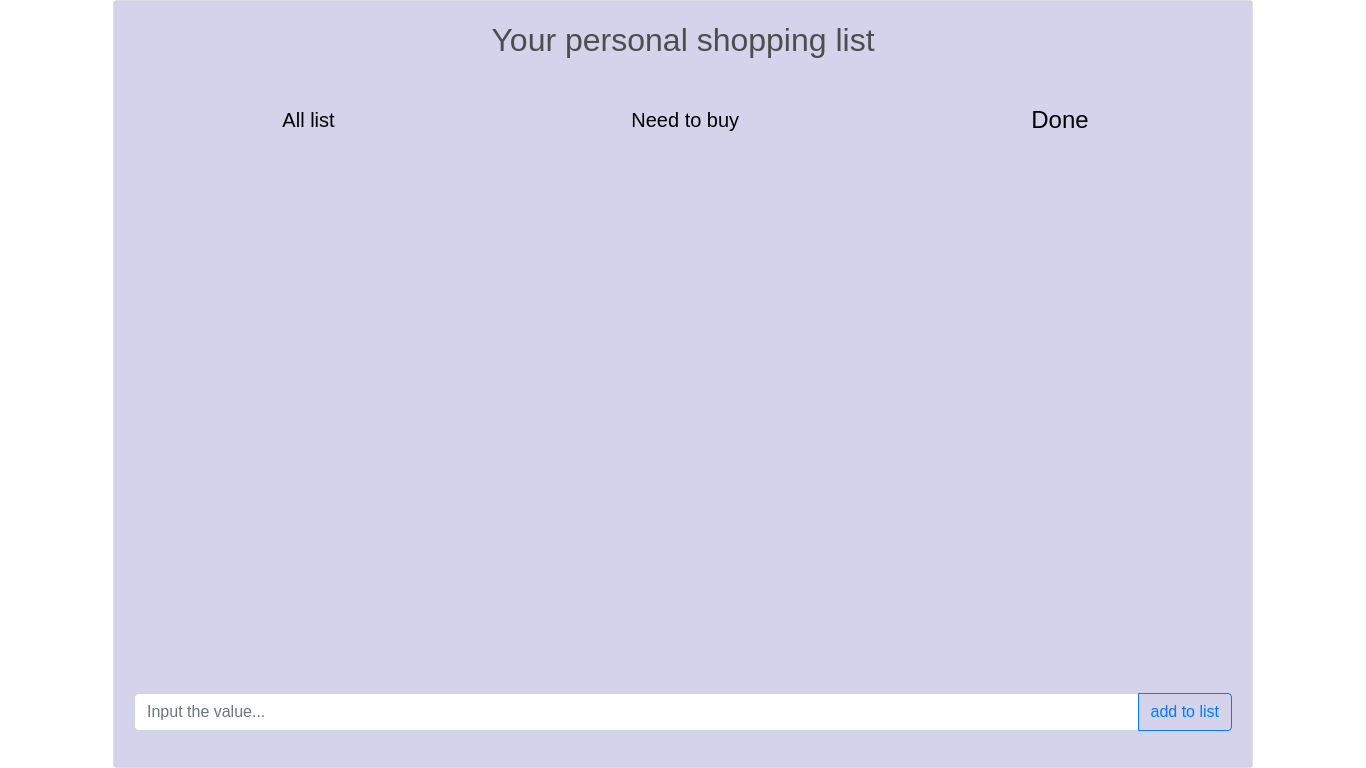
Test: add second Task
The image size is (1366, 768).
Click the button "All list" at (308,124), box [276,107,340,141]
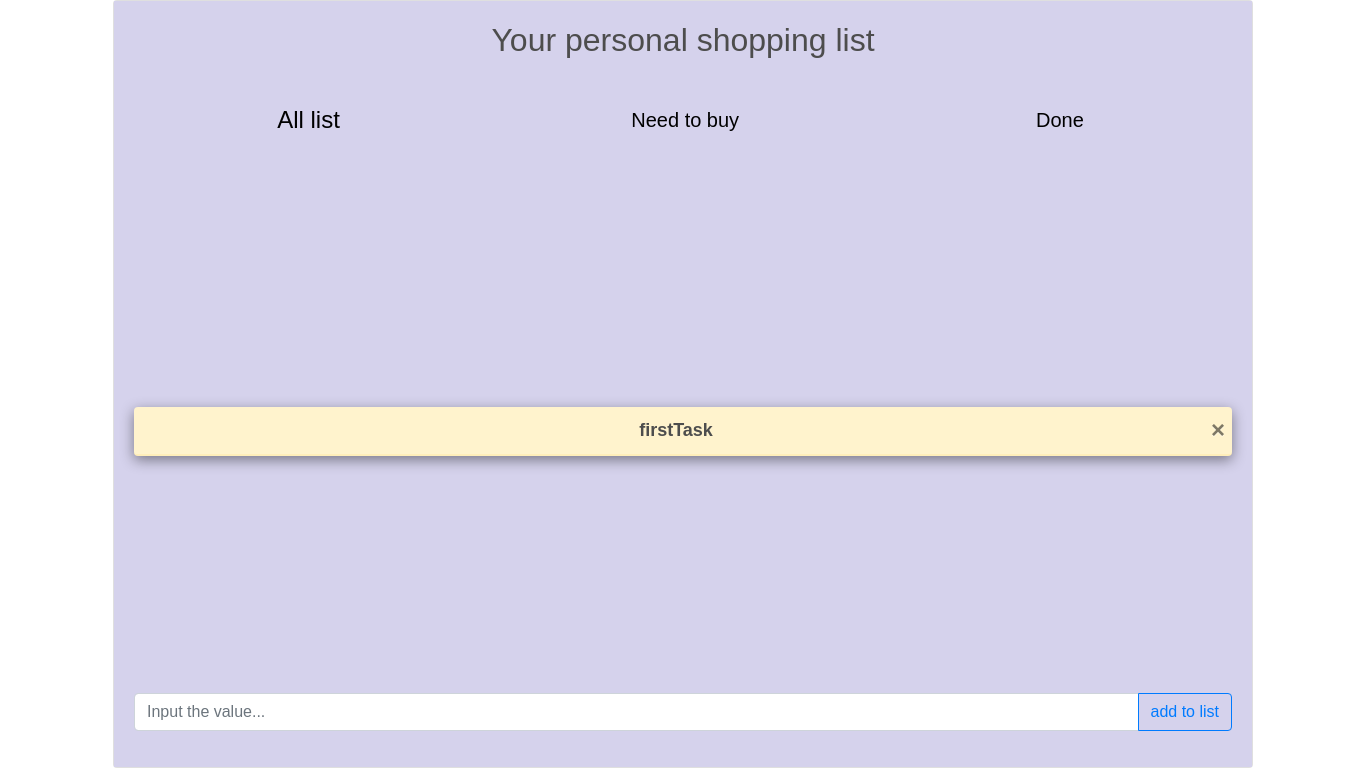
Type "anotherTask" into the field with test id "input" at (636,712), box [134,693,1138,731]
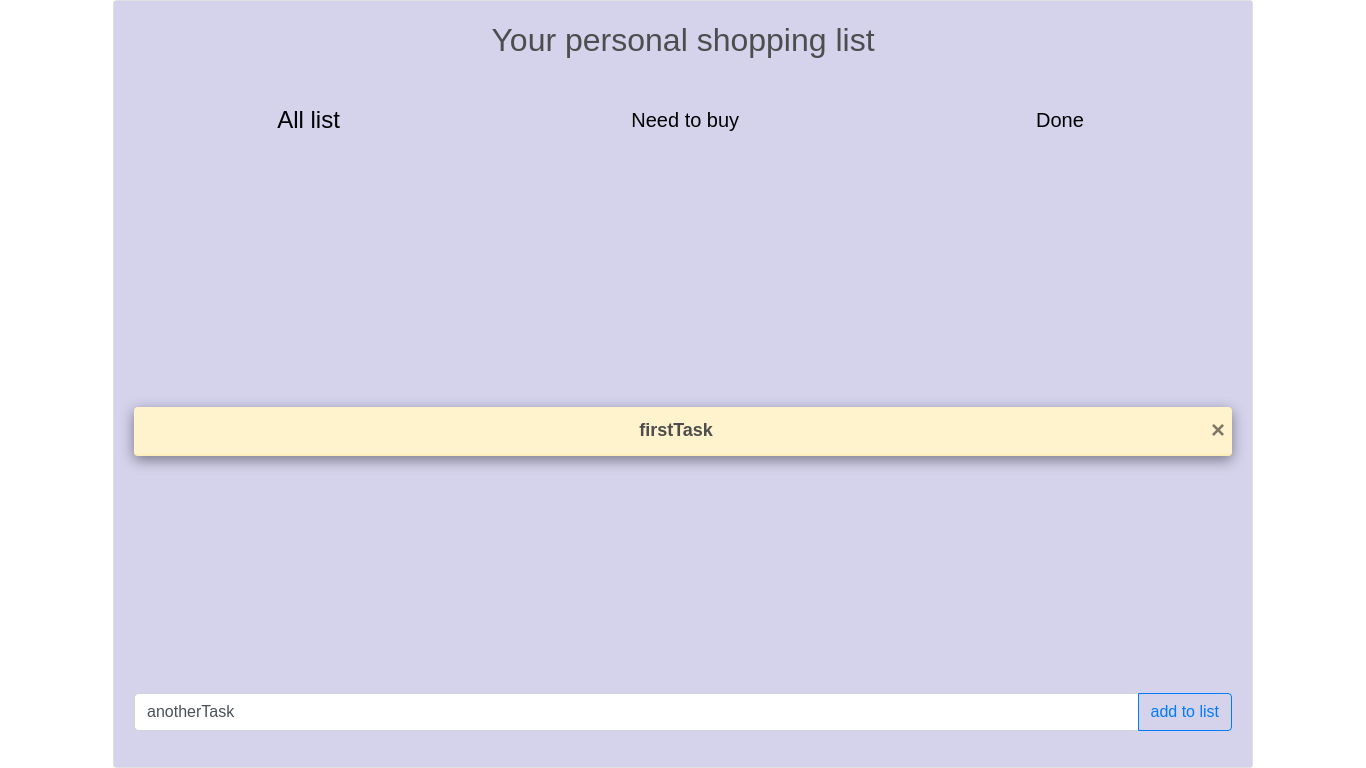
Click the button "add to list" at (1185,712), box [1138,693,1232,731]
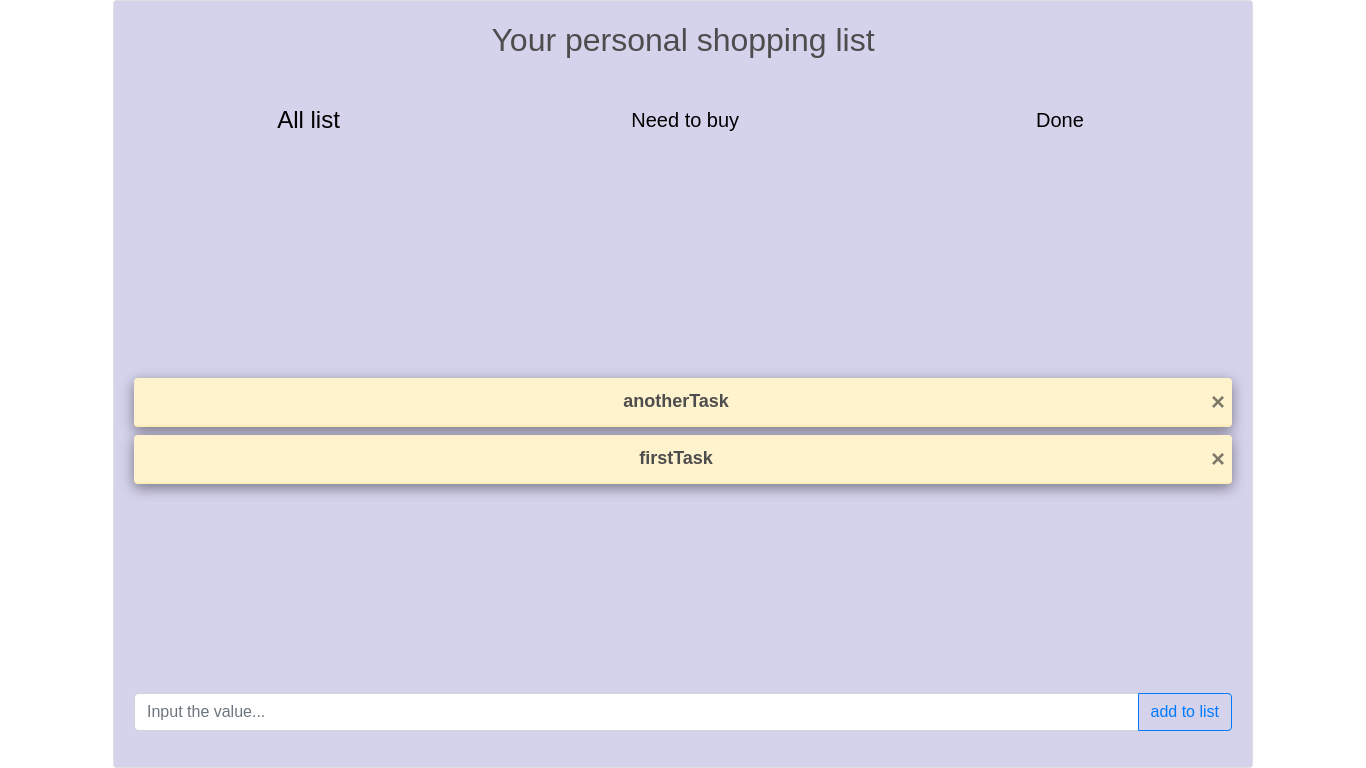
Expected: the number of elements with test id "listEl" is 2, [134,378,1232,427]; [134,435,1232,484]
